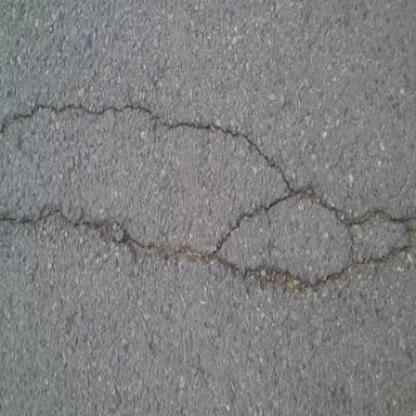SurfaceCrack: (0, 90, 412, 296)
